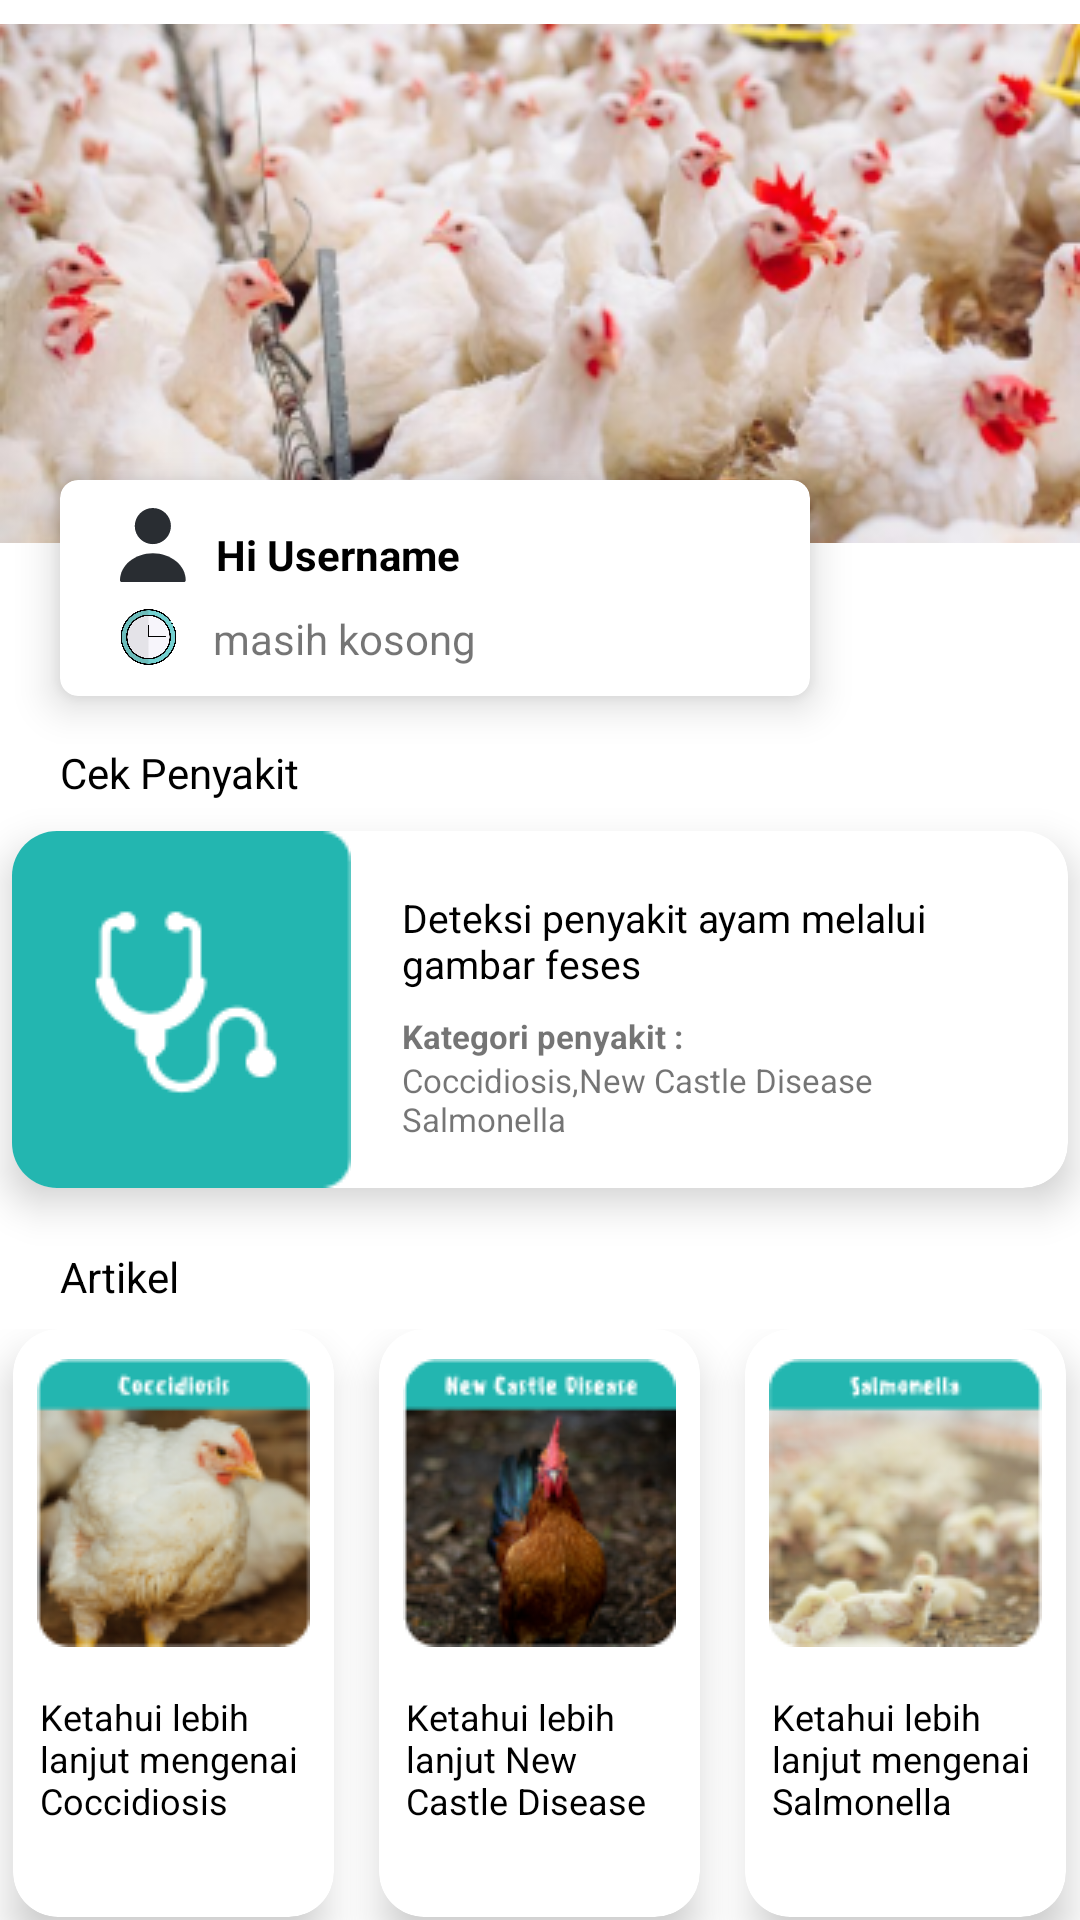

Screen size 1080*1920. Icon name, then its center in pixels as [x,y]:
ceksehat: [181,1009]
clock: [148,637]
